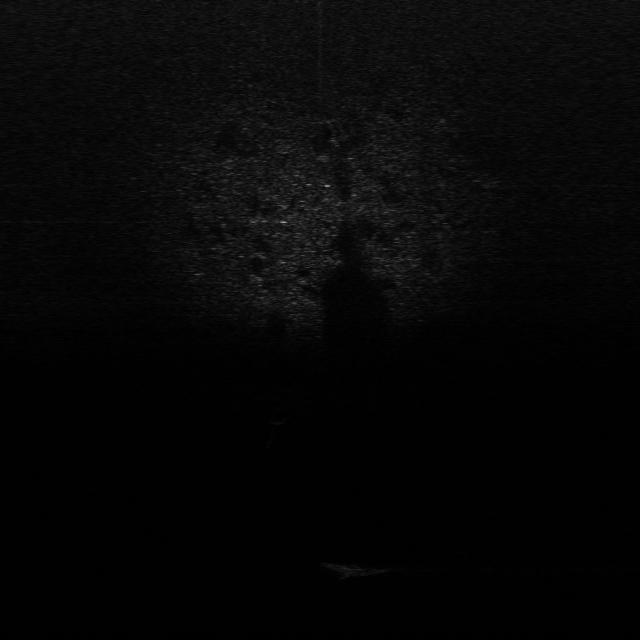ball: (268, 407, 291, 426)
metal bucket: (323, 558, 389, 578)
